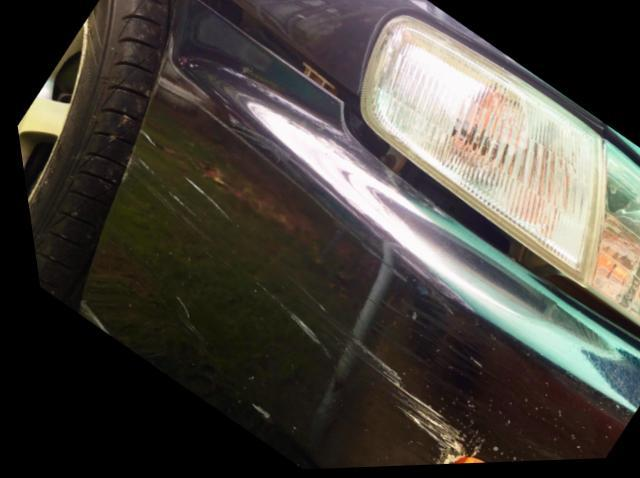rub: (122, 132, 460, 470)
